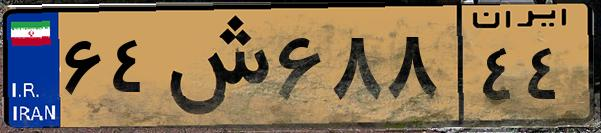4: (475, 38, 525, 113), (525, 38, 570, 115), (110, 28, 158, 98)
6: (270, 28, 330, 110), (57, 26, 110, 100)
8: (385, 28, 445, 110), (330, 28, 385, 110)
ش: (158, 12, 270, 120)
